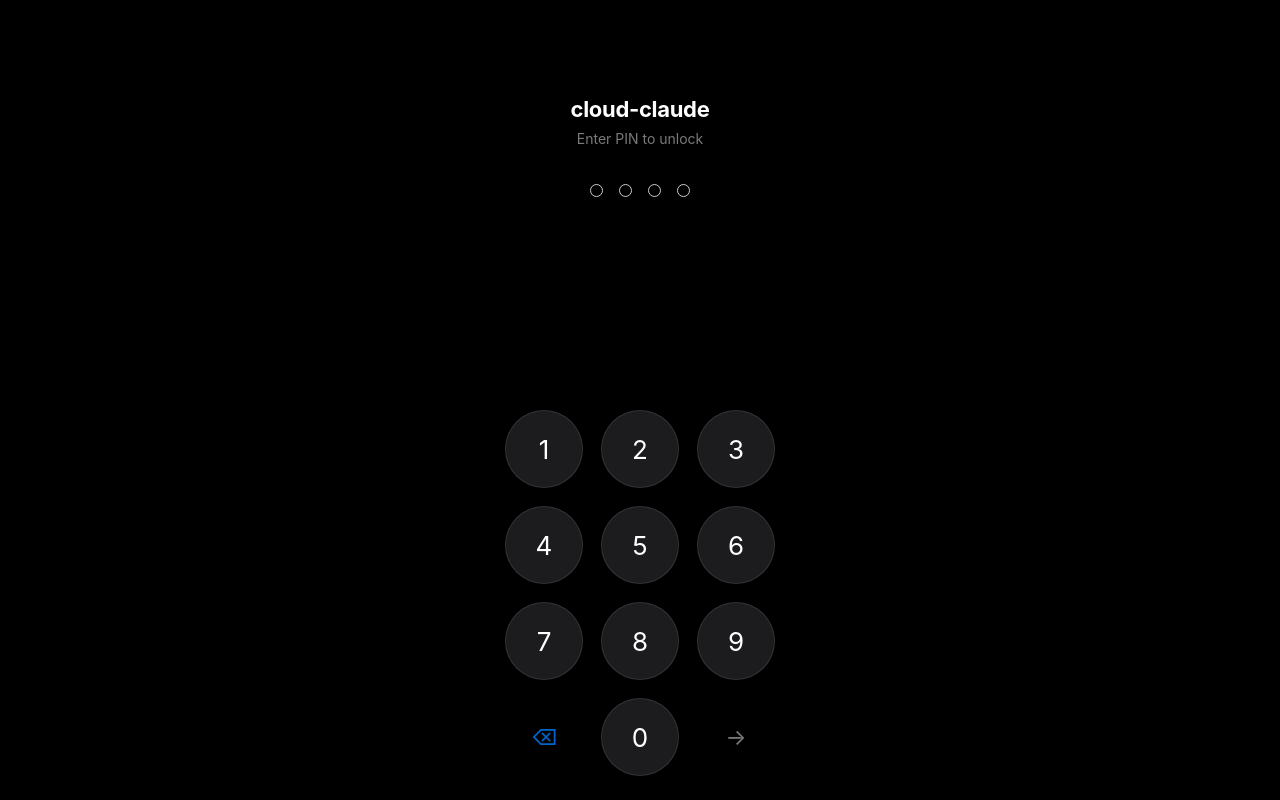
Test: Unlock › shows a distinct offline message when the hub is unreachable (not "Wrong PIN")
This screenshot has width=1280, height=800.
Click the button "1": [544, 449] box top-left (505, 410), bottom-right (583, 488)
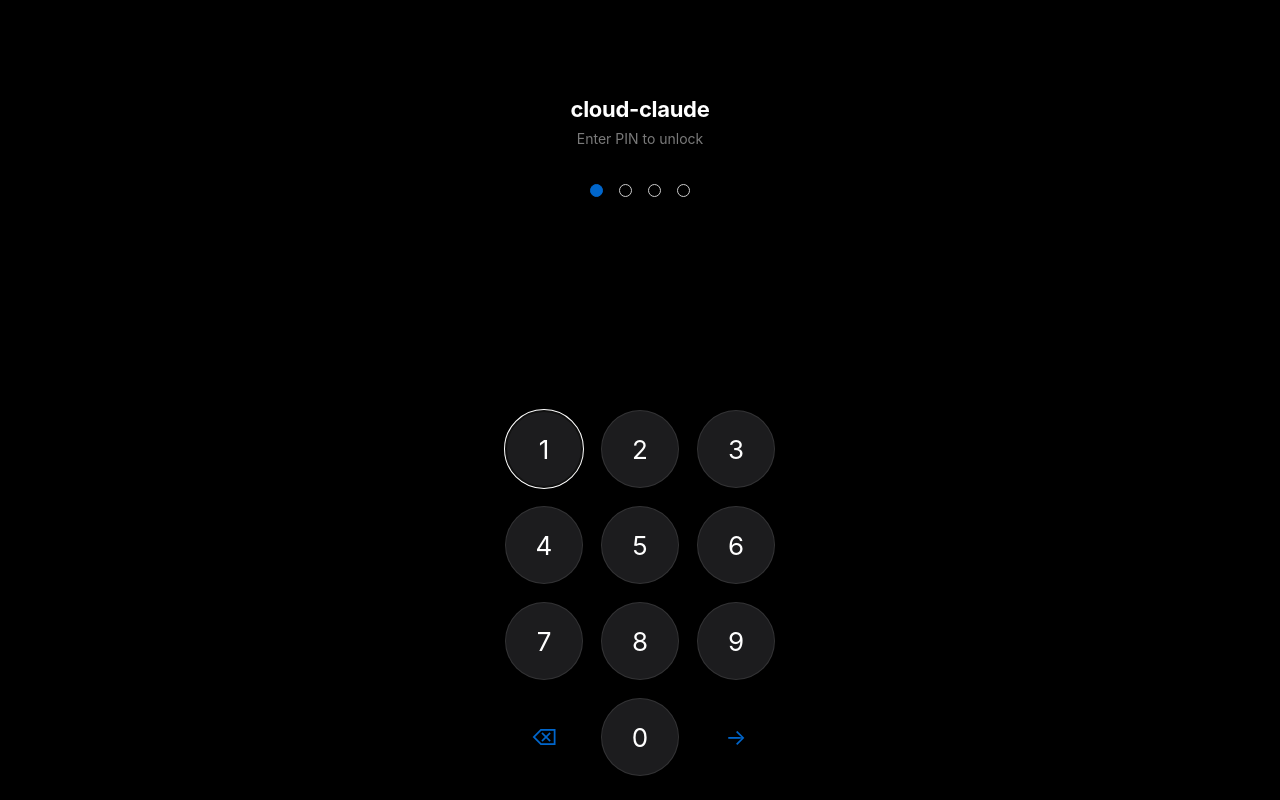
Click the button named "Submit": [736, 737] box top-left (697, 698), bottom-right (775, 776)
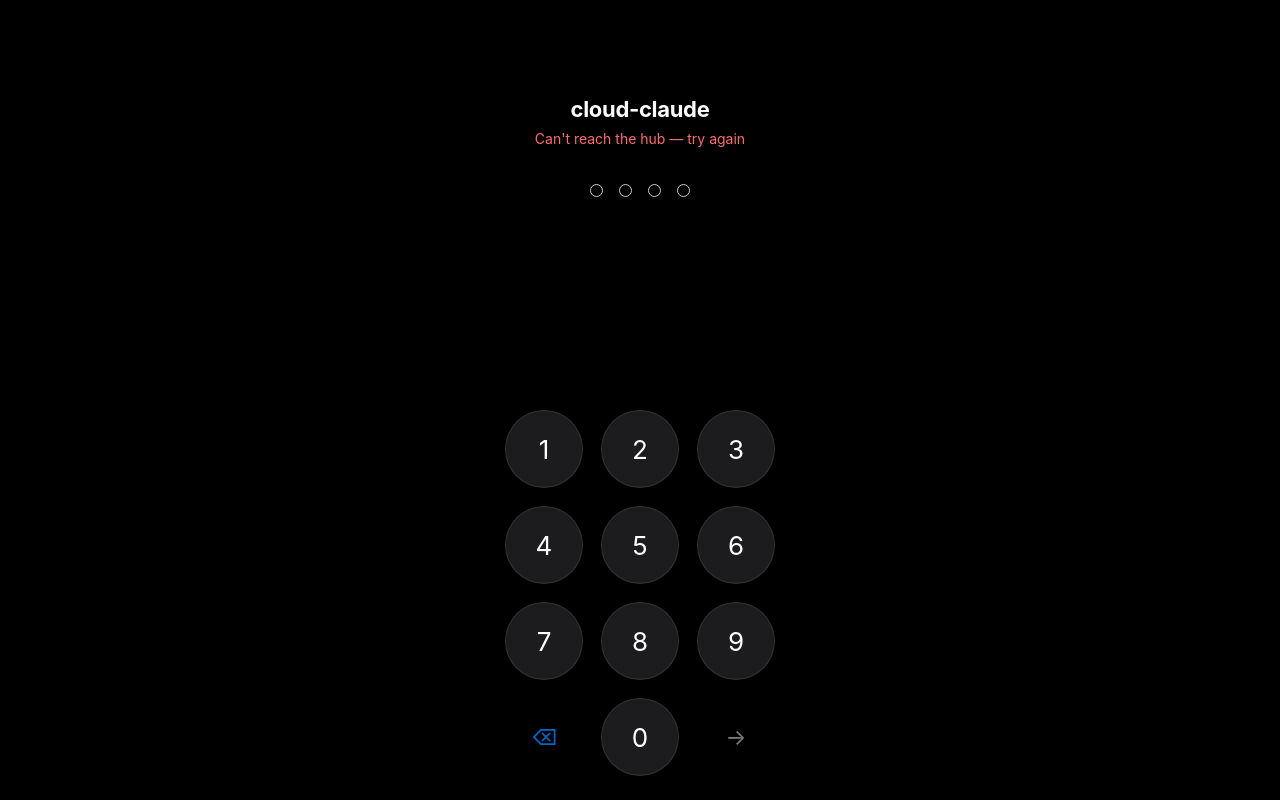
Check: the text "Can't reach the hub — try again" is shown, box top-left (535, 130), bottom-right (745, 150)
